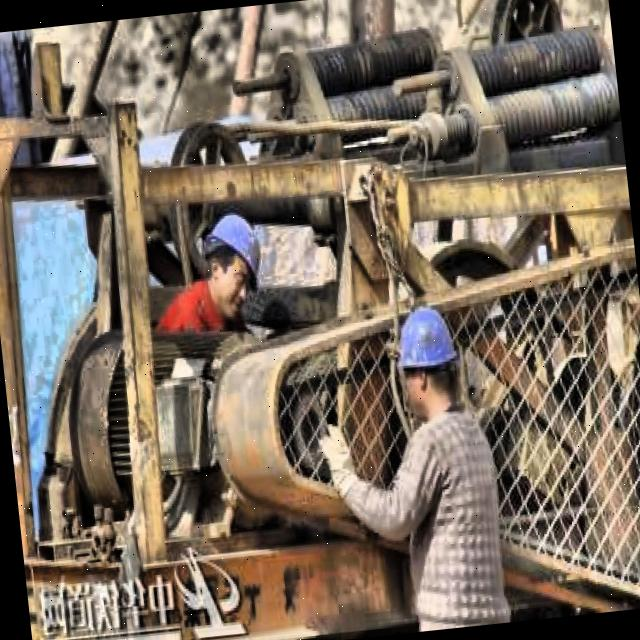helmet: (389, 296, 467, 424), (191, 204, 270, 320)
